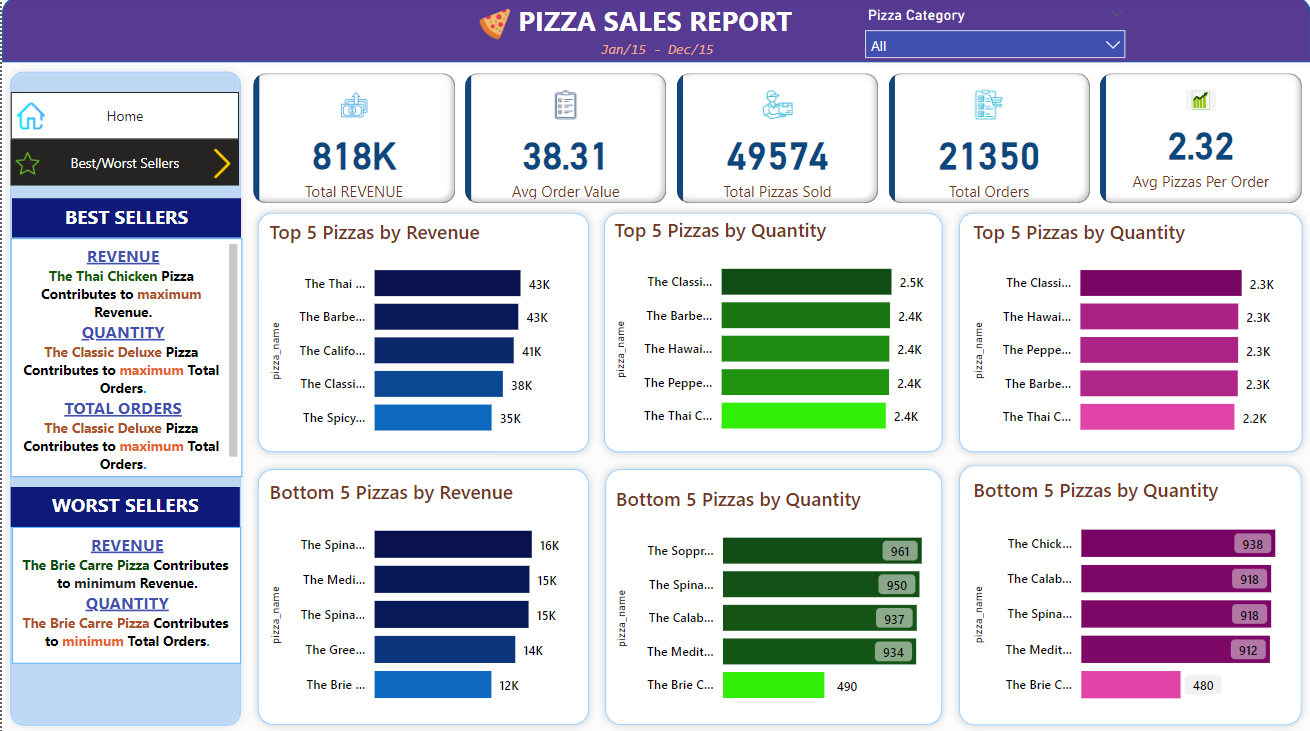

The dashboard page shown, as its layout file describes it:
{"tool":"powerbi","page":{"name":"Best/Worst Sellers","canvas":[1280,720],"ordinal":1},"visuals":[{"type":"cardVisual","fields":{"Data":["pizza_sales.Total REVENUE","pizza_sales.Avg Order Value","pizza_sales.Total Pizzas Sold","pizza_sales.Total Orders","pizza_sales.Avg Pizzas Per Order"]},"box":[241.2,70,1038.8,137.5],"z":0},{"type":"shape","box":[0,0,1280,63.8],"z":1000},{"type":"textbox","box":[493.8,0,290,47.5],"z":2000},{"type":"textbox","box":[581.2,36.2,133.8,27.5],"z":3000},{"type":"image","box":[456.2,6.2,52.5,41.2],"z":4000},{"type":"shape","box":[242,202.9,339.8,250.6],"z":5000},{"type":"shape","box":[0,64.3,241.4,655.7],"z":6000},{"type":"textbox","box":[10,197.1,224.3,38.6],"z":7000},{"type":"textbox","box":[8.6,235.9,226.1,233.5],"z":8000},{"type":"textbox","box":[8.6,479.2,223.7,39.1],"z":9000},{"type":"textbox","box":[9.8,518.3,223.7,133.2],"z":10000},{"type":"slicer","fields":{"Values":["pizza_sales.pizza_category"]},"box":[833.7,3.7,275,59.9],"z":11000},{"type":"shape","box":[580.6,202.9,347.2,250.6],"z":12000},{"type":"shape","box":[927.8,202.9,352.1,250.6],"z":13000},{"type":"shape","box":[242,453.5,339.8,266.5],"z":14000},{"type":"shape","box":[581.9,453.5,345.9,266.5],"z":15000},{"type":"shape","box":[927.8,449.8,350.8,270.2],"z":16000},{"type":"barChart","title":"Top 5 Pizzas by Revenue","fields":{"Category":["pizza_sales.pizza_name"],"Y":["pizza_sales.Total REVENUE"]},"box":[256.4,216.6,309.9,226.2],"z":17000},{"type":"barChart","title":"Bottom 5 Pizzas by Revenue","fields":{"Category":["pizza_sales.pizza_name"],"Y":["pizza_sales.Total REVENUE"]},"box":[256.4,470.3,309.9,234.4],"z":18000},{"type":"barChart","title":"Top 5 Pizzas by Quantity","fields":{"Category":["pizza_sales.pizza_name"],"Y":["pizza_sales.Total Pizzas Sold"]},"box":[594.1,215.1,317.8,226.1],"z":19000},{"type":"barChart","title":"Bottom 5 Pizzas by Quantity","fields":{"Category":["pizza_sales.pizza_name"],"Y":["pizza_sales.Total Pizzas Sold"]},"box":[595,478.5,316.7,226.2],"z":20000},{"type":"barChart","title":"Top 5 Pizzas by Quantity","fields":{"Category":["pizza_sales.pizza_name"],"Y":["pizza_sales.Total Orders"]},"box":[944.9,216.4,317.8,226.1],"z":21000},{"type":"barChart","title":"Bottom 5 Pizzas by Quantity","fields":{"Category":["pizza_sales.pizza_name"],"Y":["pizza_sales.Total Orders"]},"box":[944.7,468.9,318.1,235.8],"z":22000},{"type":"pageNavigator","box":[8.6,92.9,223.7,46.5],"z":23000},{"type":"pageNavigator","box":[8.6,139.4,223.7,45.2],"z":24000},{"type":"image","box":[195.6,143,39.1,39.1],"z":25000},{"type":"image","box":[9.8,97.8,36.7,36.7],"z":26000},{"type":"image","box":[8.6,145.5,33,34.2],"z":27000}]}

Visuals, with their boxes in screenshot pixels (x1, y1, x2, y2), scaled from the page's 1280x720 canvas onto the 1310x731 screenshot:
cardVisual - pizza_sales.Total REVENUE x pizza_sales.Avg Order Value: [247,71,1309,211]
shape: [0,0,1309,65]
textbox: [505,0,802,48]
textbox: [595,37,732,65]
image: [467,6,521,48]
shape: [248,206,595,460]
shape: [0,65,247,730]
textbox: [10,200,240,239]
textbox: [9,240,240,477]
textbox: [9,487,238,526]
textbox: [10,526,239,661]
slicer - pizza_sales.pizza_category: [853,4,1135,65]
shape: [594,206,950,460]
shape: [950,206,1309,460]
shape: [248,460,595,730]
shape: [596,460,950,730]
shape: [950,457,1309,730]
"Top 5 Pizzas by Revenue" barChart: [262,220,580,450]
"Bottom 5 Pizzas by Revenue" barChart: [262,477,580,715]
"Top 5 Pizzas by Quantity" barChart: [608,218,933,448]
"Bottom 5 Pizzas by Quantity" barChart: [609,486,933,715]
"Top 5 Pizzas by Quantity" barChart: [967,220,1292,449]
"Bottom 5 Pizzas by Quantity" barChart: [967,476,1292,715]
pageNavigator: [9,94,238,142]
pageNavigator: [9,142,238,187]
image: [200,145,240,185]
image: [10,99,48,137]
image: [9,148,43,182]
